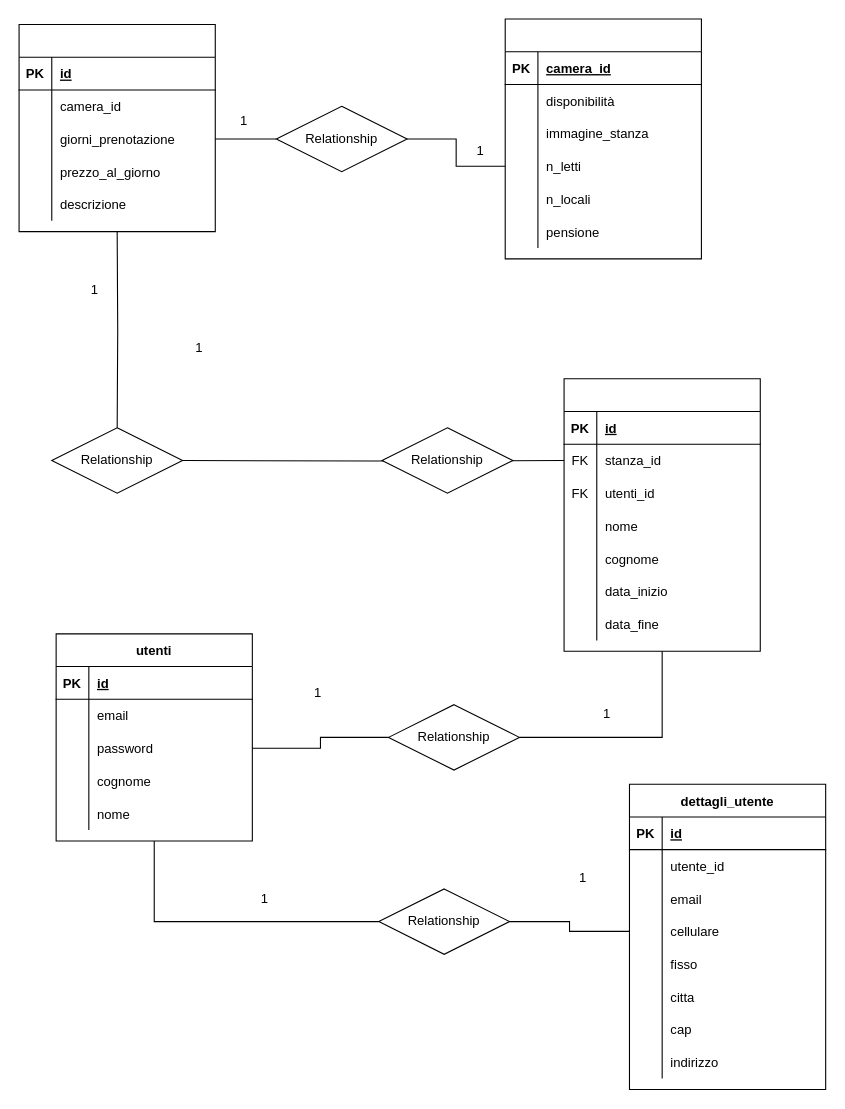
The diagram is 845 pixels wide and 1109 high, and some of its shapes have lost their labels. Here are the shapes that lost their labels. From the top down, the box of each, then its label:
(18, 23, 215, 232): stanze
(504, 18, 701, 259): dettagli_stanza
(563, 378, 760, 651): prenotazione
